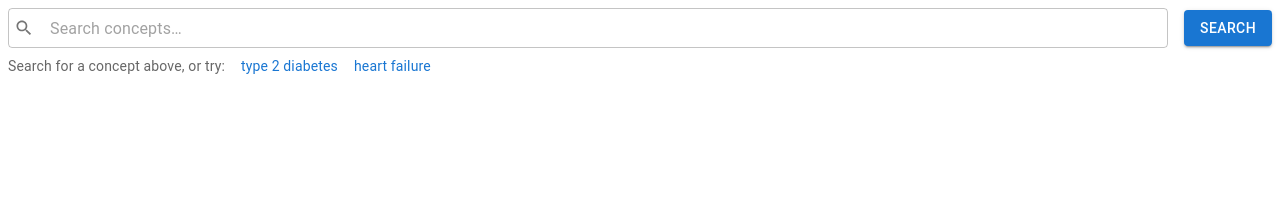
Search › initial state › hides the example searches once a search is submitted
Type "asthma" into the dropdown labelled "Search" at (601, 28), box [42, 14, 1159, 42]
Then press Enter
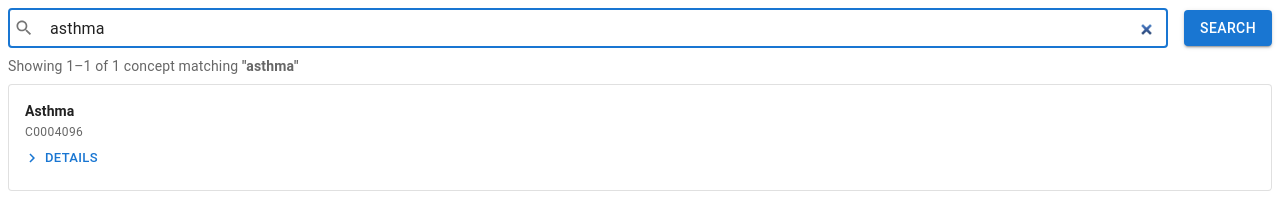
Expected: the text "Search for a concept above, or try:" is gone
